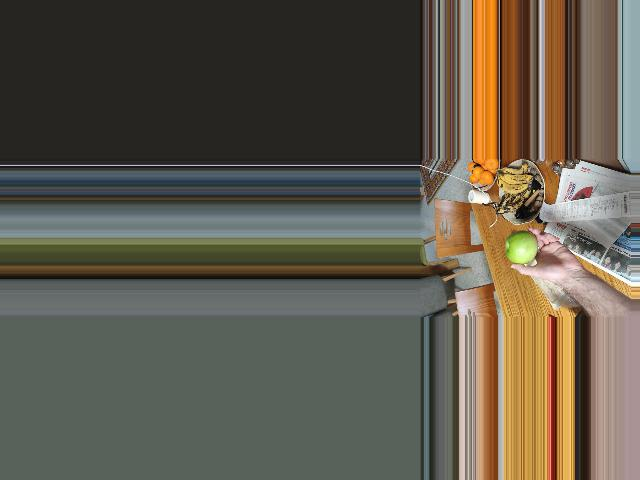apple: (504, 233, 542, 269)
